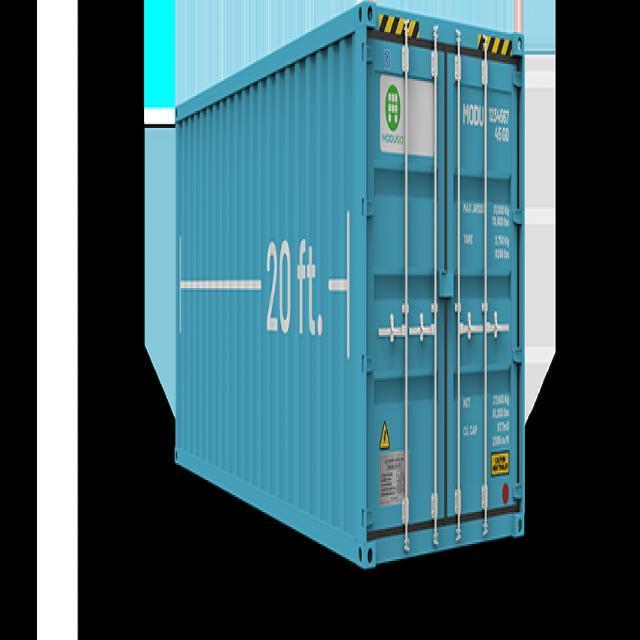container_number_h: (461, 94, 511, 151)
